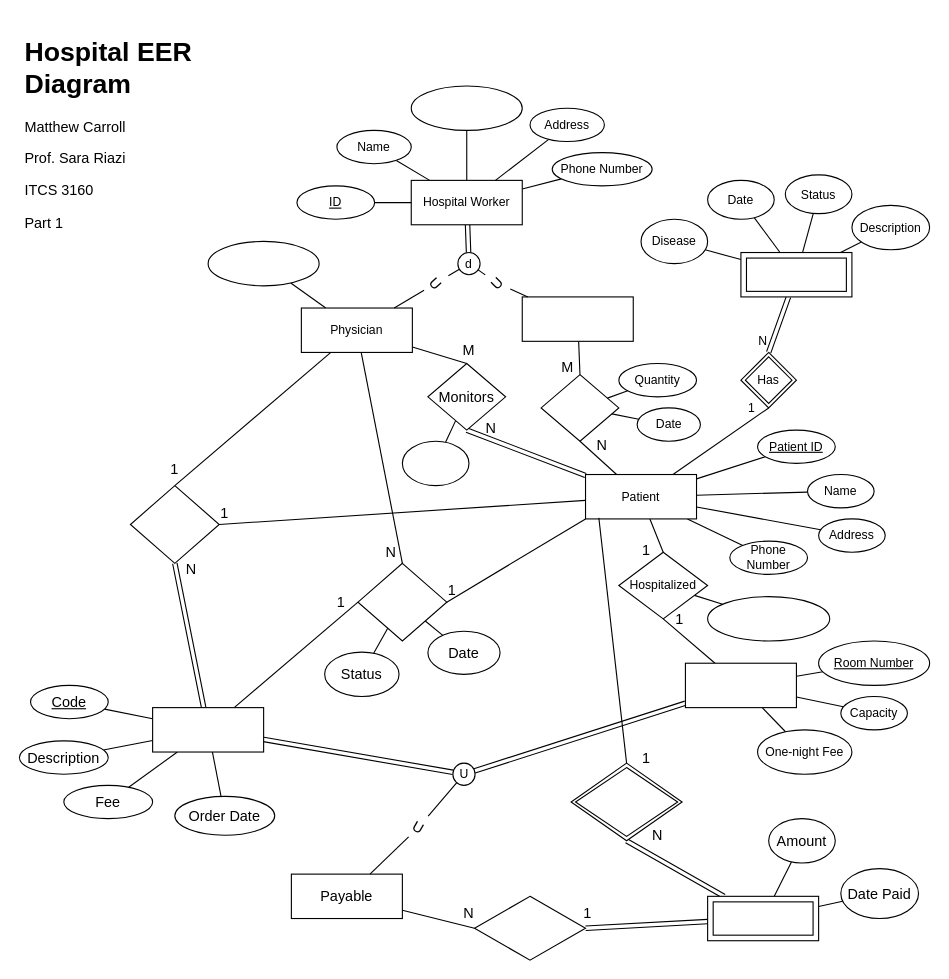
Some shapes in this 949 by 979 pixel diagram are drawn without their labels. Each missing label, with the centre of its shape:
Certification Number: point 466,107
Charges For: point 529,927
Duration: point 435,463
Executes: point 402,601
Field of Expertise: point 263,263
Health Record: point 796,274
Instruction: point 208,729
Invoice: point 763,918
Medicates: point 579,407
Nights Hospitalized: point 768,618
Nurse: point 577,318
Orders: point 174,524
Pays: point 626,801
Room: point 740,685
